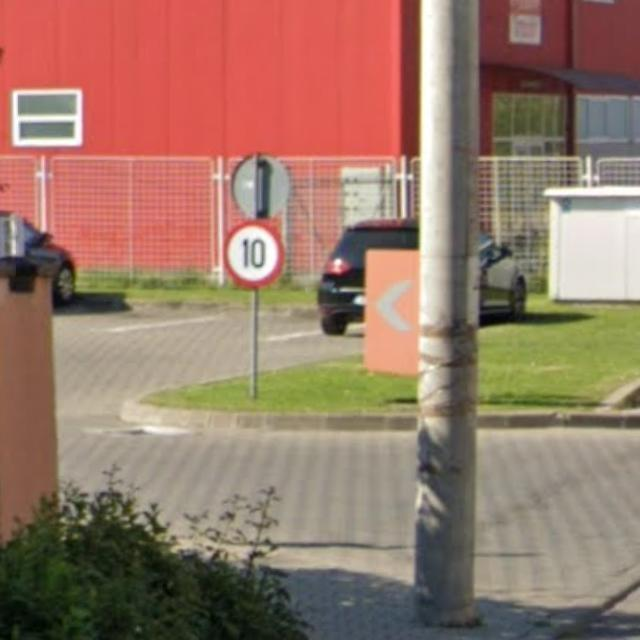forb_speed_over_10: (223, 222, 284, 287)
